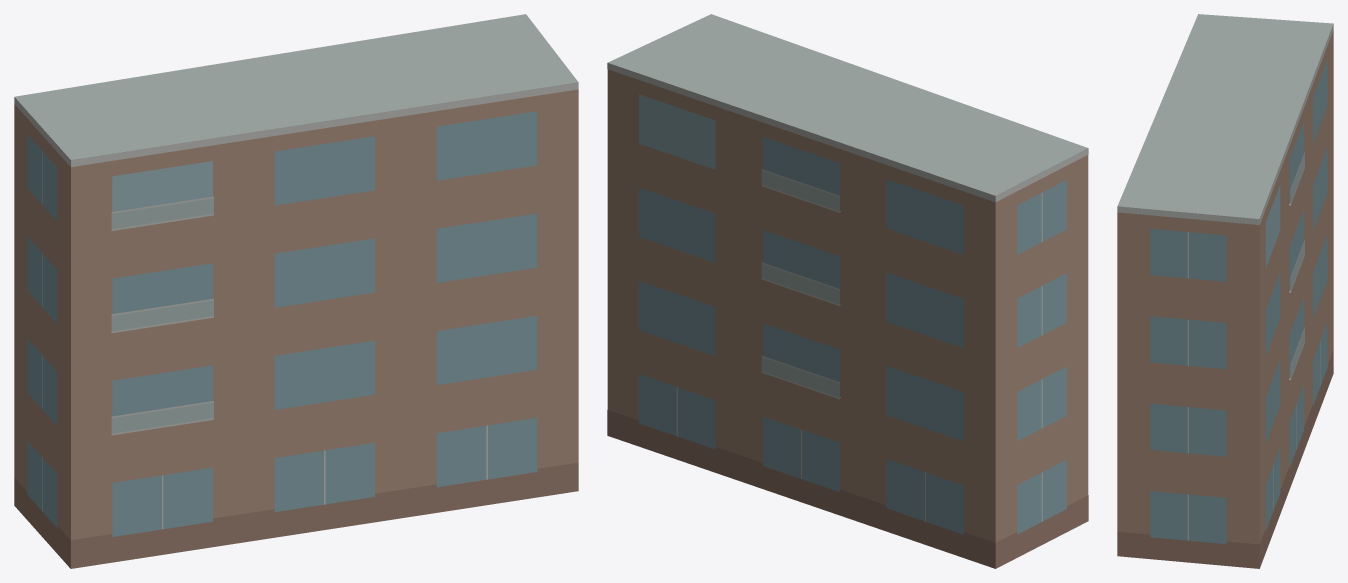
File: survey-upis-32935403.glb
3 views of the same model, side by side, from view 1: azimuth 30°, elevation 25°; view 2: azimuth 150°, elevation 25°; view 3: azimuth 270°, elevation 25° (orthographic). The views are drawn at different scales.
Visible parts, largest first — view 1: survey-upis-32935403.tmp; view 2: survey-upis-32935403.tmp; view 3: survey-upis-32935403.tmp.
Boxes of the visible parts, x1,y1,x2,y2 form: survey-upis-32935403.tmp: [14, 14, 578, 568]; survey-upis-32935403.tmp: [607, 14, 1088, 568]; survey-upis-32935403.tmp: [1117, 14, 1333, 568].
Size of the model in its own units: 17.74 by 14.1 by 7.91.
